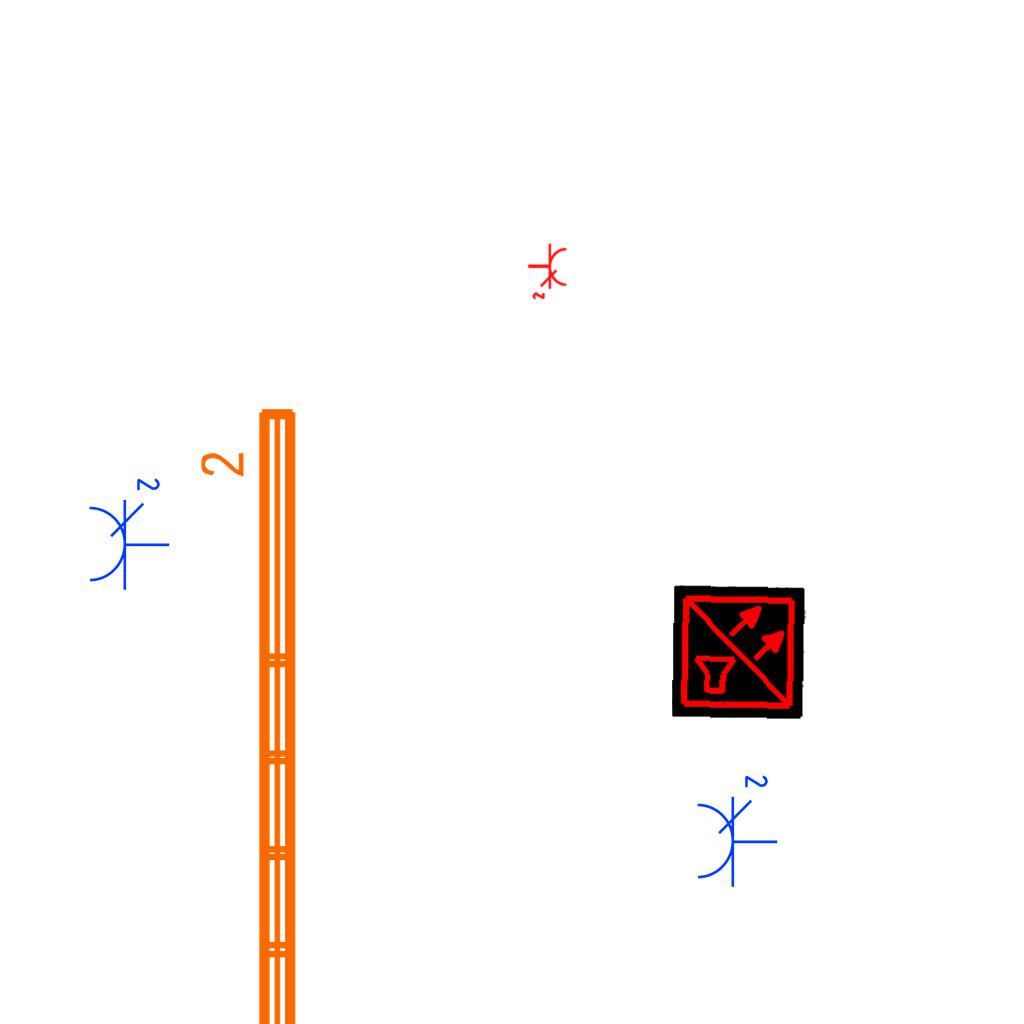Ambulanz_Pendelleuchte_LED: (196, 400, 308, 1024)
OKW_Multisensormelder_(Kombination_optischer_Rauch-Kahlenmonoxid_Waerme-Melder): (671, 584, 807, 720)
Schukosteckdose_mehrfach: (83, 471, 171, 592), (691, 768, 779, 889), (525, 241, 569, 301)
